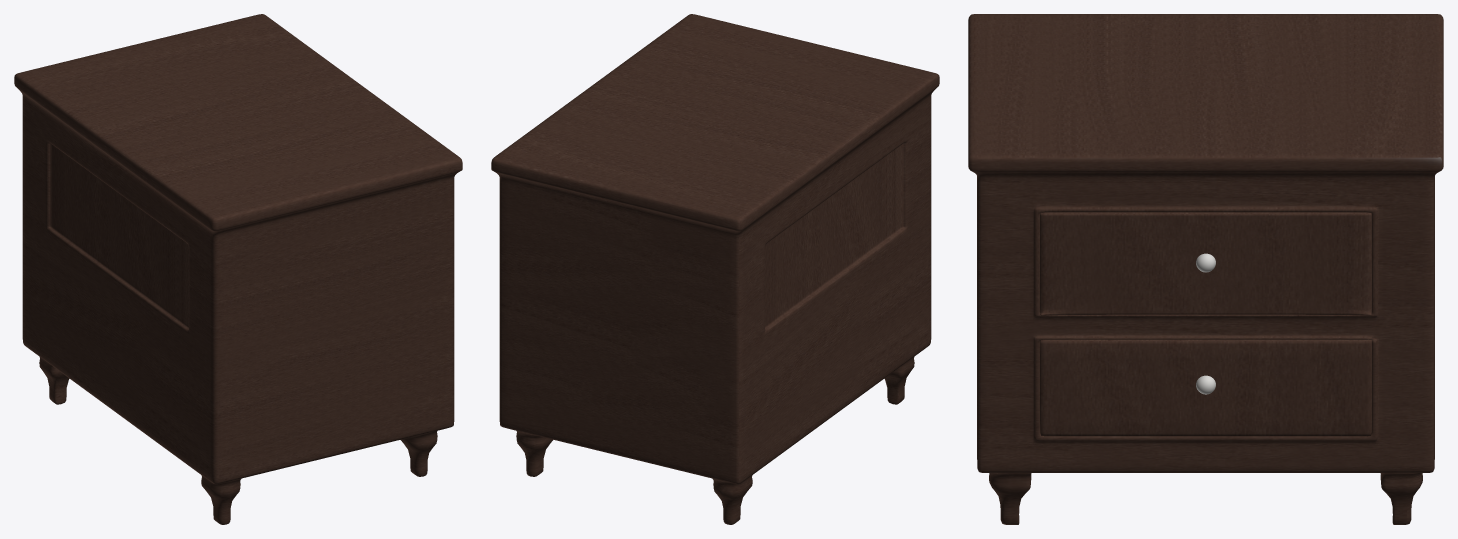
The model's file is _finalNightStand.fbx.
3 renders of one model, left to right at view 1: azimuth 30°, elevation 25°; view 2: azimuth 150°, elevation 25°; view 3: azimuth 270°, elevation 25°, orthographic. The views are drawn at different scales.
Visible parts, largest first — view 1: Nightstand; view 2: Nightstand; view 3: Nightstand.
Boxes of the visible parts, bbox=[...] form: Nightstand: bbox=[14, 14, 462, 524]; Nightstand: bbox=[491, 14, 939, 524]; Nightstand: bbox=[968, 14, 1443, 524].
Size of the model in its own units: 215 by 259 by 292.
Materials: 1 (1 with a texture image).
